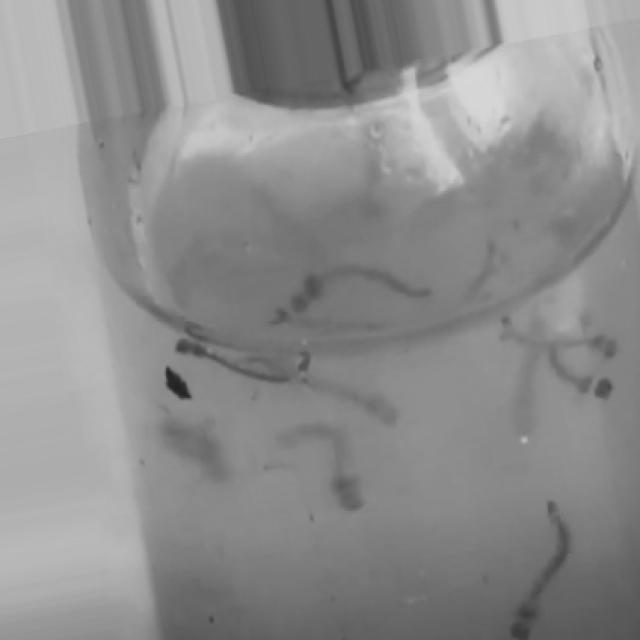larvas: (508, 499, 570, 640), (279, 426, 361, 504), (287, 261, 430, 305), (181, 339, 309, 383), (272, 303, 391, 342), (166, 423, 228, 482), (312, 380, 398, 421), (506, 330, 618, 360), (553, 360, 615, 400), (511, 358, 538, 433)
